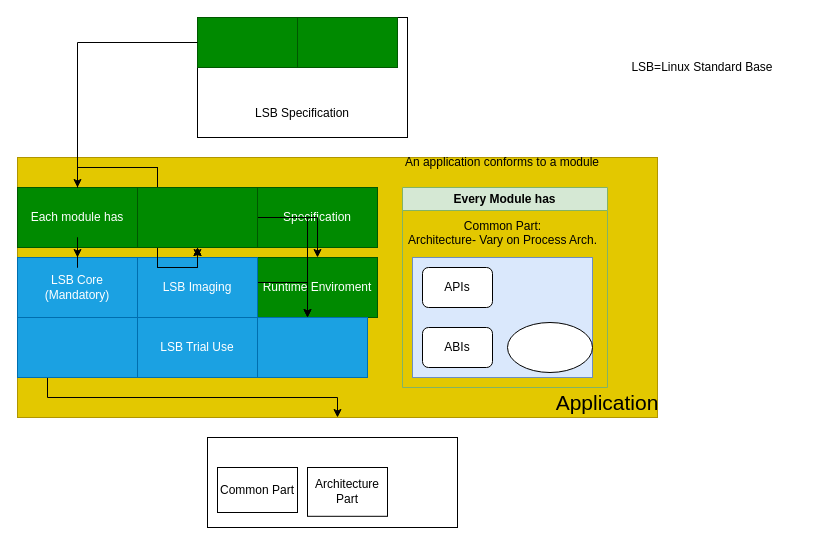
Some shapes in this 825 by 545 pixel diagram are drawn without their labels. The shapes that lost their labels are listed below. From the top down, each one's centre as x and y in pixels, then its label:
(247,42): Module1
(347,42): Module2...
(197,217): Libraries
(77,347): LSB Desktop
(307,347): LSB Languages
(549,347): Application Binary Interface
